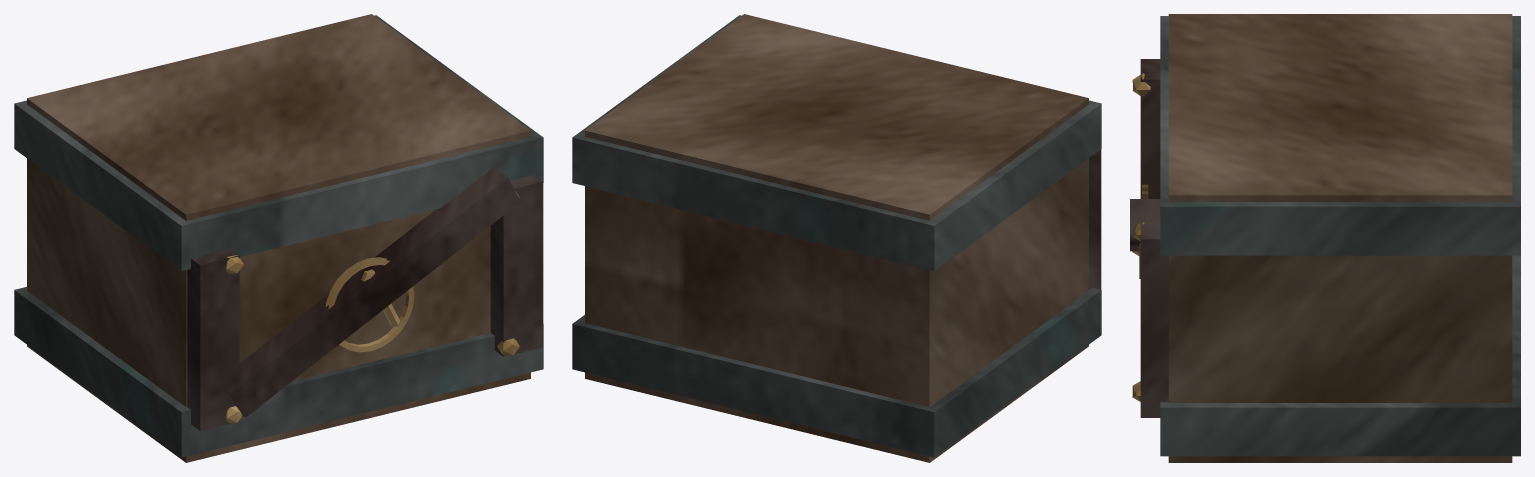
Rendered from 0732_supply_crate_07.glb.
3 renders of one model, left to right at view 1: azimuth 30°, elevation 25°; view 2: azimuth 150°, elevation 25°; view 3: azimuth 270°, elevation 25°, orthographic. The views are drawn at different scales.
Visible parts, largest first — view 1: wood, iron, wood_dark, brass; view 2: wood, iron, wood_dark; view 3: wood, iron, wood_dark, brass.
Boxes of the visible parts, x1,y1,x2,y2 form: wood: [27, 14, 530, 462]; iron: [14, 15, 543, 457]; wood_dark: [187, 167, 543, 430]; brass: [225, 187, 519, 423]; wood: [585, 14, 1088, 462]; iron: [572, 15, 1101, 457]; wood_dark: [1089, 149, 1101, 289]; wood: [1168, 14, 1512, 462]; iron: [1160, 16, 1520, 456]; wood_dark: [1130, 59, 1168, 417]; brass: [1132, 73, 1150, 401].
Bounding box in the file's own units: 0.9188 × 0.6017 × 0.7963.
Materials: 4 (4 with a texture image).
